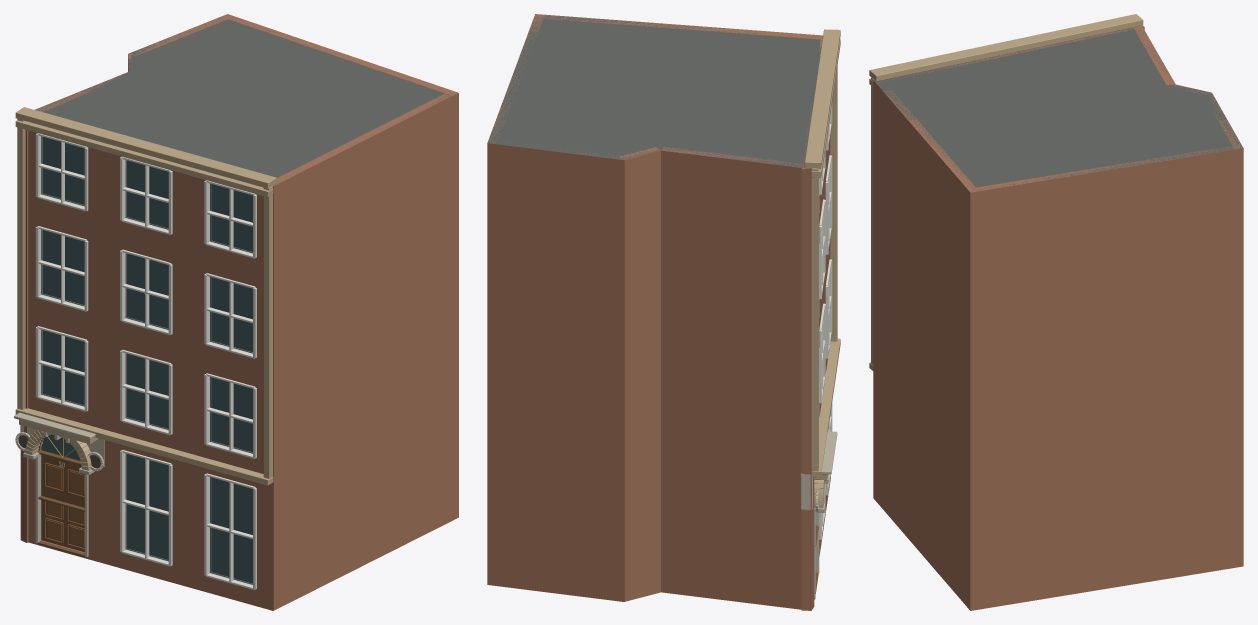
File: 50l-exterior-053779bde328.glb
The picture shows the model from 3 angles, left to right: view 1: azimuth 30°, elevation 25°; view 2: azimuth 150°, elevation 25°; view 3: azimuth 270°, elevation 25°; orthographic projection. The views are drawn at different scales.
Visible parts, largest first — view 1: 50L.001; view 2: 50L.001; view 3: 50L.001.
Boxes of the visible parts, x1,y1,x2,y2 form: 50L.001: (14,14,458,610); 50L.001: (487,14,840,610); 50L.001: (869,14,1243,610).
Size of the model in its own units: 11.05 by 12.48 by 9.97.
